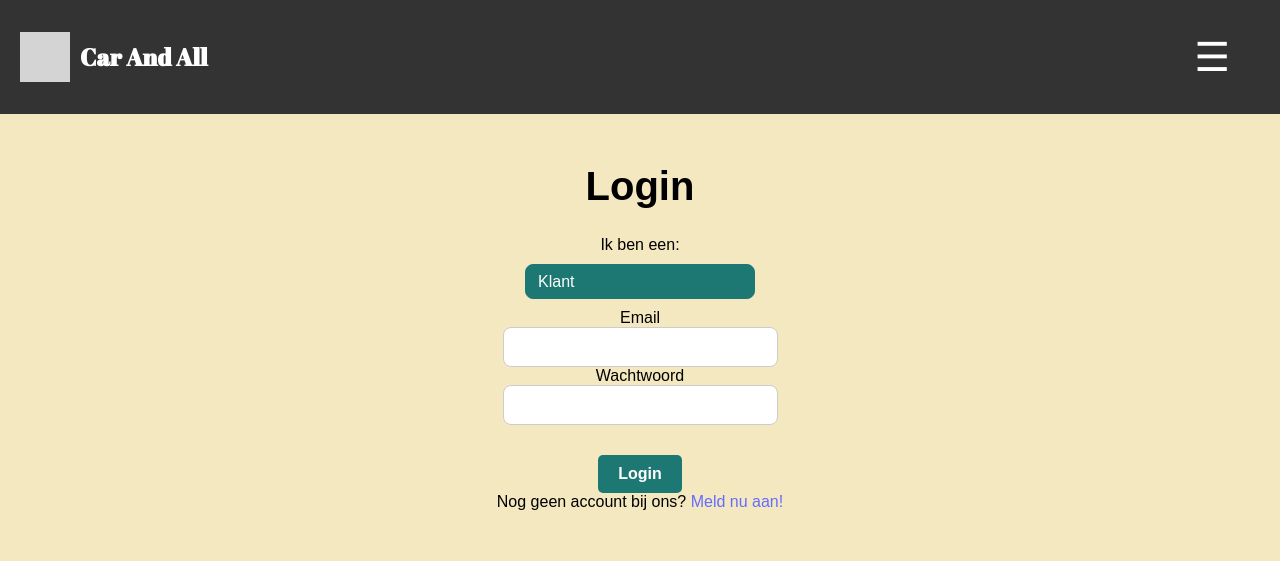
Scenario: Log in Page › should show an error when an invalid account or password is entered
Note: Fill in invalid credentials
Type "invalid@test.nl" into the field with id "user".
click(641, 347); type("invalid@test.nl")  # box left=503, top=327, right=778, bottom=367
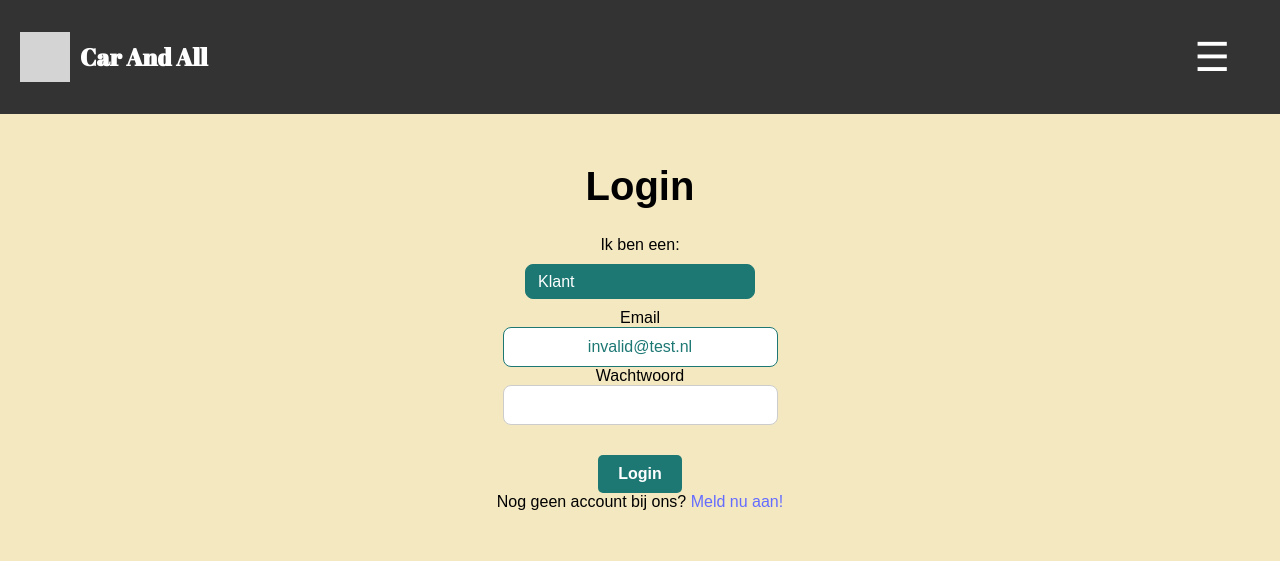
Type "wrongpassword" into the password field labelled "Wachtwoord".
click(641, 405); type("wrongpassword")  # box left=503, top=385, right=778, bottom=425
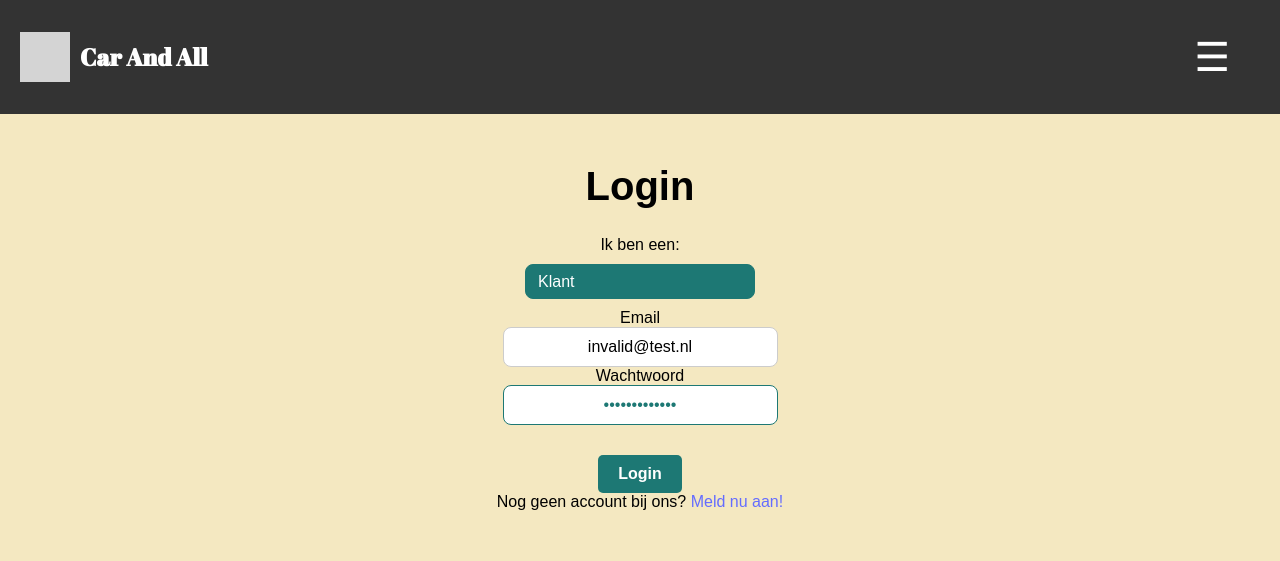
Note: Click the login button
Click the button "Login".
click(640, 474)  # box left=598, top=455, right=682, bottom=493
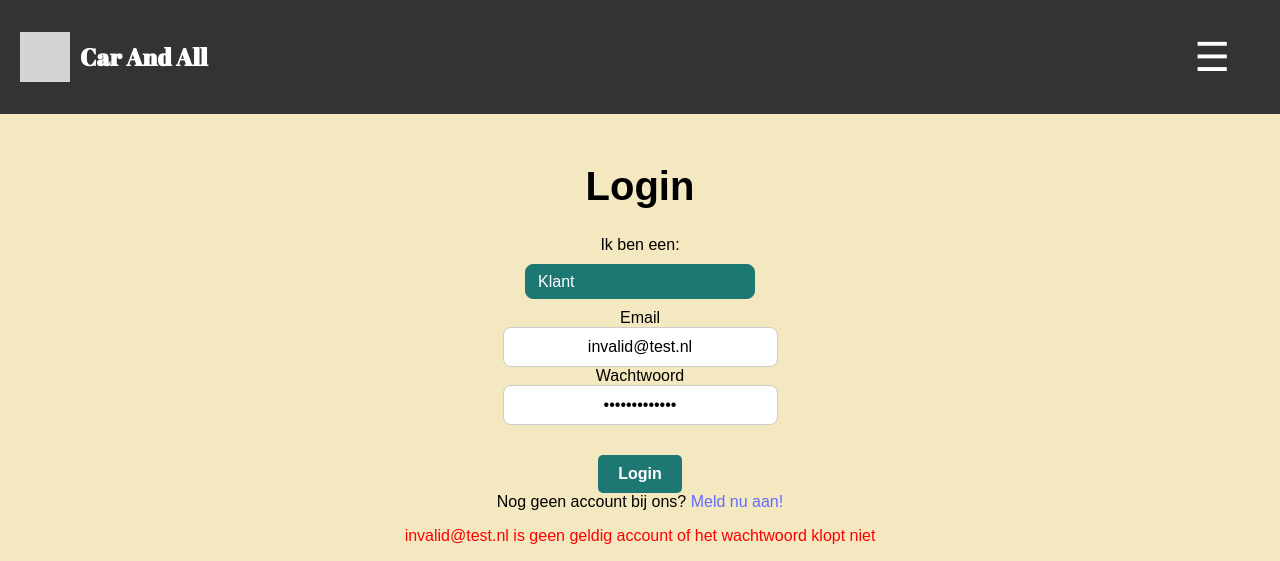
Now the text "invalid@test.nl is geen geldig account of het wachtwoord klopt niet" is shown, box left=405, top=527, right=875, bottom=544
